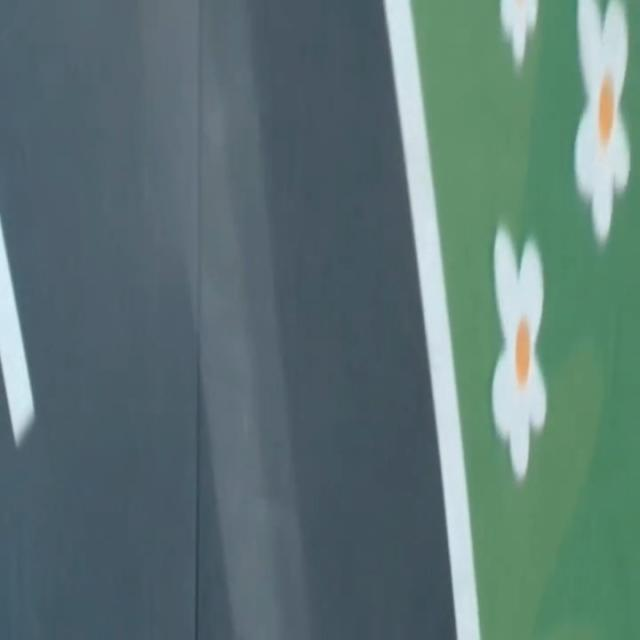center: (0, 218, 34, 445)
right: (383, 0, 480, 639)
